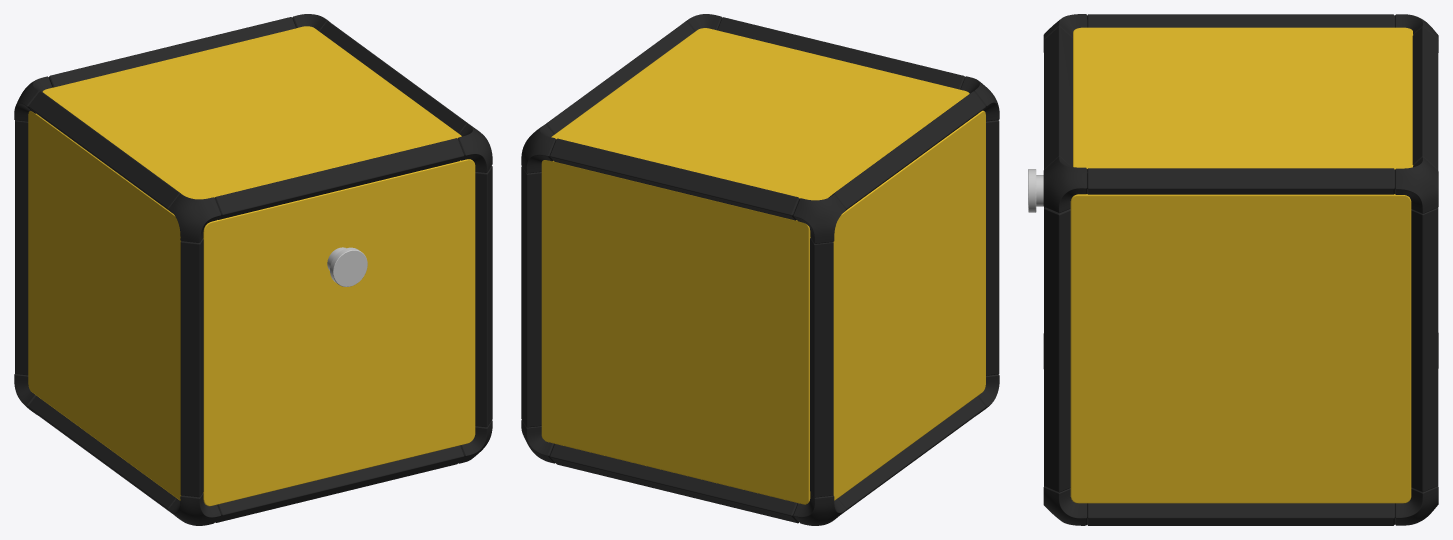
The picture shows the model from 3 angles, left to right: view 1: azimuth 30°, elevation 25°; view 2: azimuth 150°, elevation 25°; view 3: azimuth 270°, elevation 25°; orthographic projection. The views are drawn at different scales.
Visible parts, largest first — view 1: Rectangle130, Rectangle125, Rectangle127, Line366 (×3), Line360 (×3), Line364 (×3), Line356 (×5), Line372; view 2: Rectangle129, Rectangle125, Rectangle127, Line366 (×3), Line360 (×3), Line364 (×3), Line356 (×5); view 3: Rectangle125, Rectangle127, Line364 (×3), Line366 (×2), Line360 (×2), Line356 (×6), Line372.
Boxes of the visible parts, bbox=[...] form: Rectangle130: bbox=[203, 159, 475, 506]; Rectangle125: bbox=[28, 111, 180, 500]; Rectangle127: bbox=[42, 26, 461, 199]; Line366 (×3): bbox=[15, 120, 492, 497]; Line360 (×3): bbox=[48, 17, 464, 522]; Line364 (×3): bbox=[28, 21, 467, 513]; Line356 (×5): bbox=[14, 76, 492, 525]; Line372: bbox=[327, 247, 367, 286]; Rectangle129: bbox=[541, 160, 810, 504]; Rectangle125: bbox=[833, 110, 985, 500]; Rectangle127: bbox=[551, 28, 969, 200]; Line366 (×3): bbox=[521, 120, 999, 497]; Line360 (×3): bbox=[550, 17, 964, 523]; Line364 (×3): bbox=[546, 21, 985, 514]; Line356 (×5): bbox=[521, 76, 999, 525]; Rectangle125: bbox=[1070, 194, 1411, 503]; Rectangle127: bbox=[1073, 27, 1413, 169]; Line364 (×3): bbox=[1087, 14, 1394, 525]; Line366 (×2): bbox=[1044, 207, 1438, 492]; Line360 (×2): bbox=[1044, 26, 1438, 170]; Line356 (×6): bbox=[1043, 14, 1438, 525]; Line372: bbox=[1028, 169, 1043, 212].
Size of the model in its own units: 0.3516 by 0.3504 by 0.3639.
